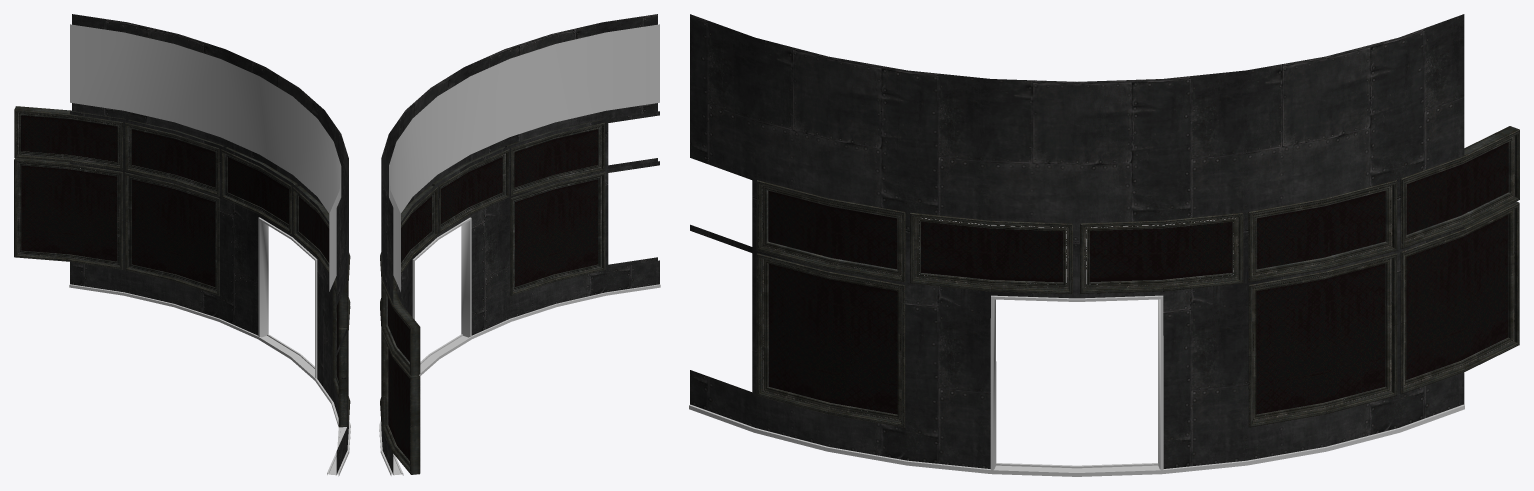
The model's file is tesla_modules_core_wall_inner_02.dae.
The picture shows the model from 3 angles, left to right: view 1: azimuth 30°, elevation 25°; view 2: azimuth 150°, elevation 25°; view 3: azimuth 270°, elevation 25°; orthographic projection. The views are drawn at different scales.
Visible parts, largest first — view 1: polySurface120, polySurface121, polySurface128, polySurface119, polySurface129; view 2: polySurface121, polySurface128, polySurface120, polySurface119, polySurface129; view 3: polySurface128, polySurface120, polySurface119, polySurface129.
Boxes of the visible parts, box(x1,y1,x2,y2) form: polySurface120: box(21, 115, 338, 380); polySurface121: box(70, 24, 341, 291); polySurface128: box(70, 14, 348, 474); polySurface119: box(14, 106, 350, 427); polySurface129: box(69, 217, 350, 476); polySurface121: box(389, 24, 659, 291); polySurface128: box(381, 14, 659, 474); polySurface120: box(388, 129, 597, 460); polySurface119: box(380, 119, 605, 474); polySurface129: box(379, 217, 660, 475); polySurface128: box(690, 14, 1464, 468); polySurface120: box(768, 142, 1508, 414); polySurface119: box(756, 126, 1519, 427); polySurface129: box(689, 295, 1464, 476).
Bounding box in the file's own units: 4.07 × 7.55 × 14.42.
